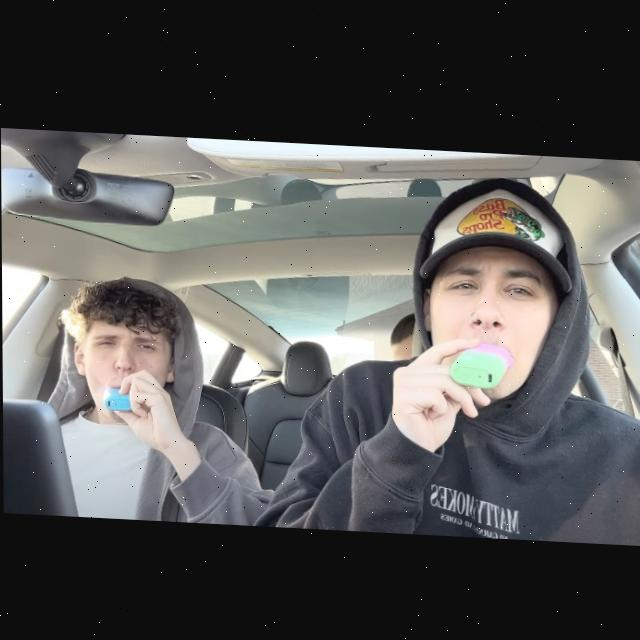vape: (450, 336, 514, 383), (101, 386, 138, 410)
